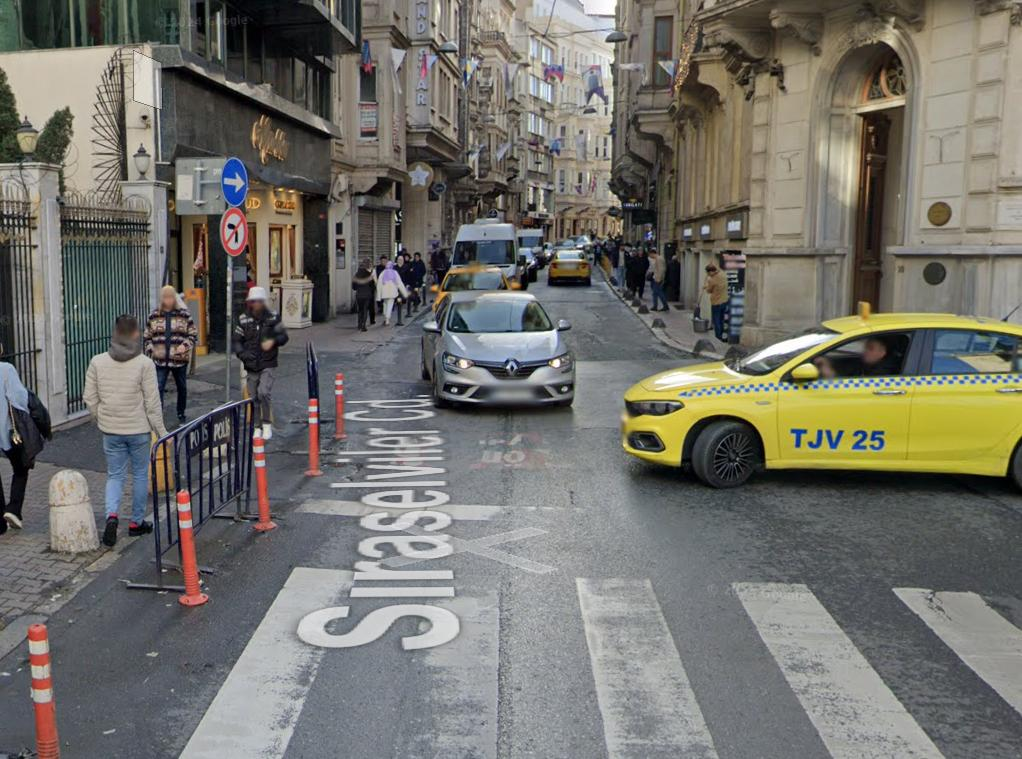leftturnsareforbidden: (222, 212, 245, 251)
turnright: (224, 160, 248, 201)
